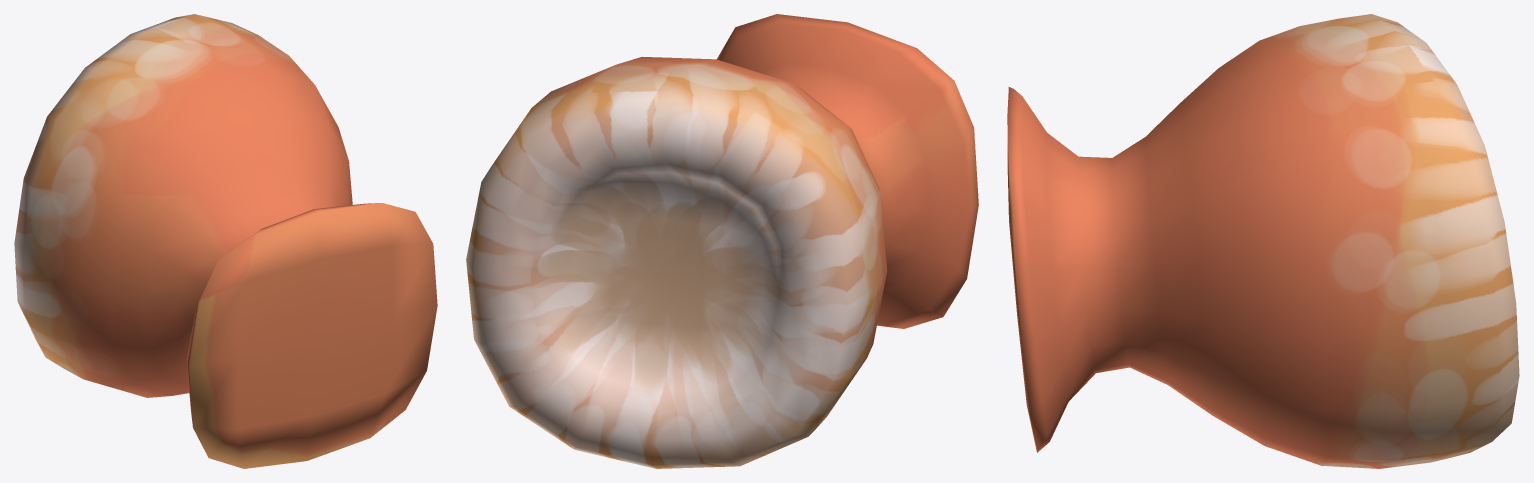
File: Anemone003.fbx
3 views of the same model, side by side, from view 1: azimuth 30°, elevation 25°; view 2: azimuth 150°, elevation 25°; view 3: azimuth 270°, elevation 25° (orthographic). The views are drawn at different scales.
Visible parts, largest first — view 1: SeaAnemone03; view 2: SeaAnemone03; view 3: SeaAnemone03.
Boxes of the visible parts, x1,y1,x2,y2 form: SeaAnemone03: [14, 14, 437, 468]; SeaAnemone03: [466, 14, 978, 468]; SeaAnemone03: [1007, 14, 1519, 468].
Bounding box in the file's own units: 501 × 514 × 594.
1 material, 1 textured.
